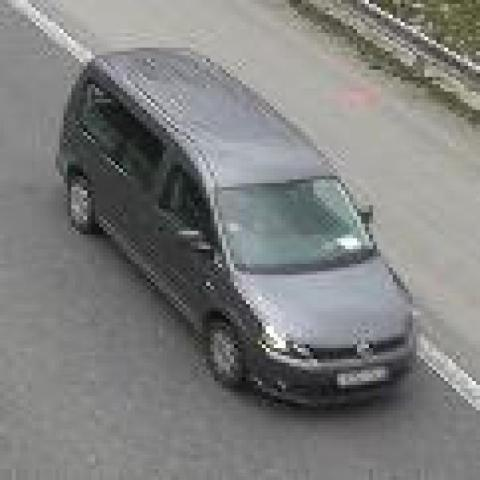van: (64, 50, 417, 401)
